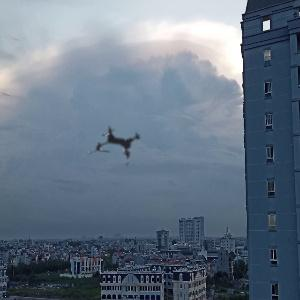drone: (67, 95, 169, 197)
